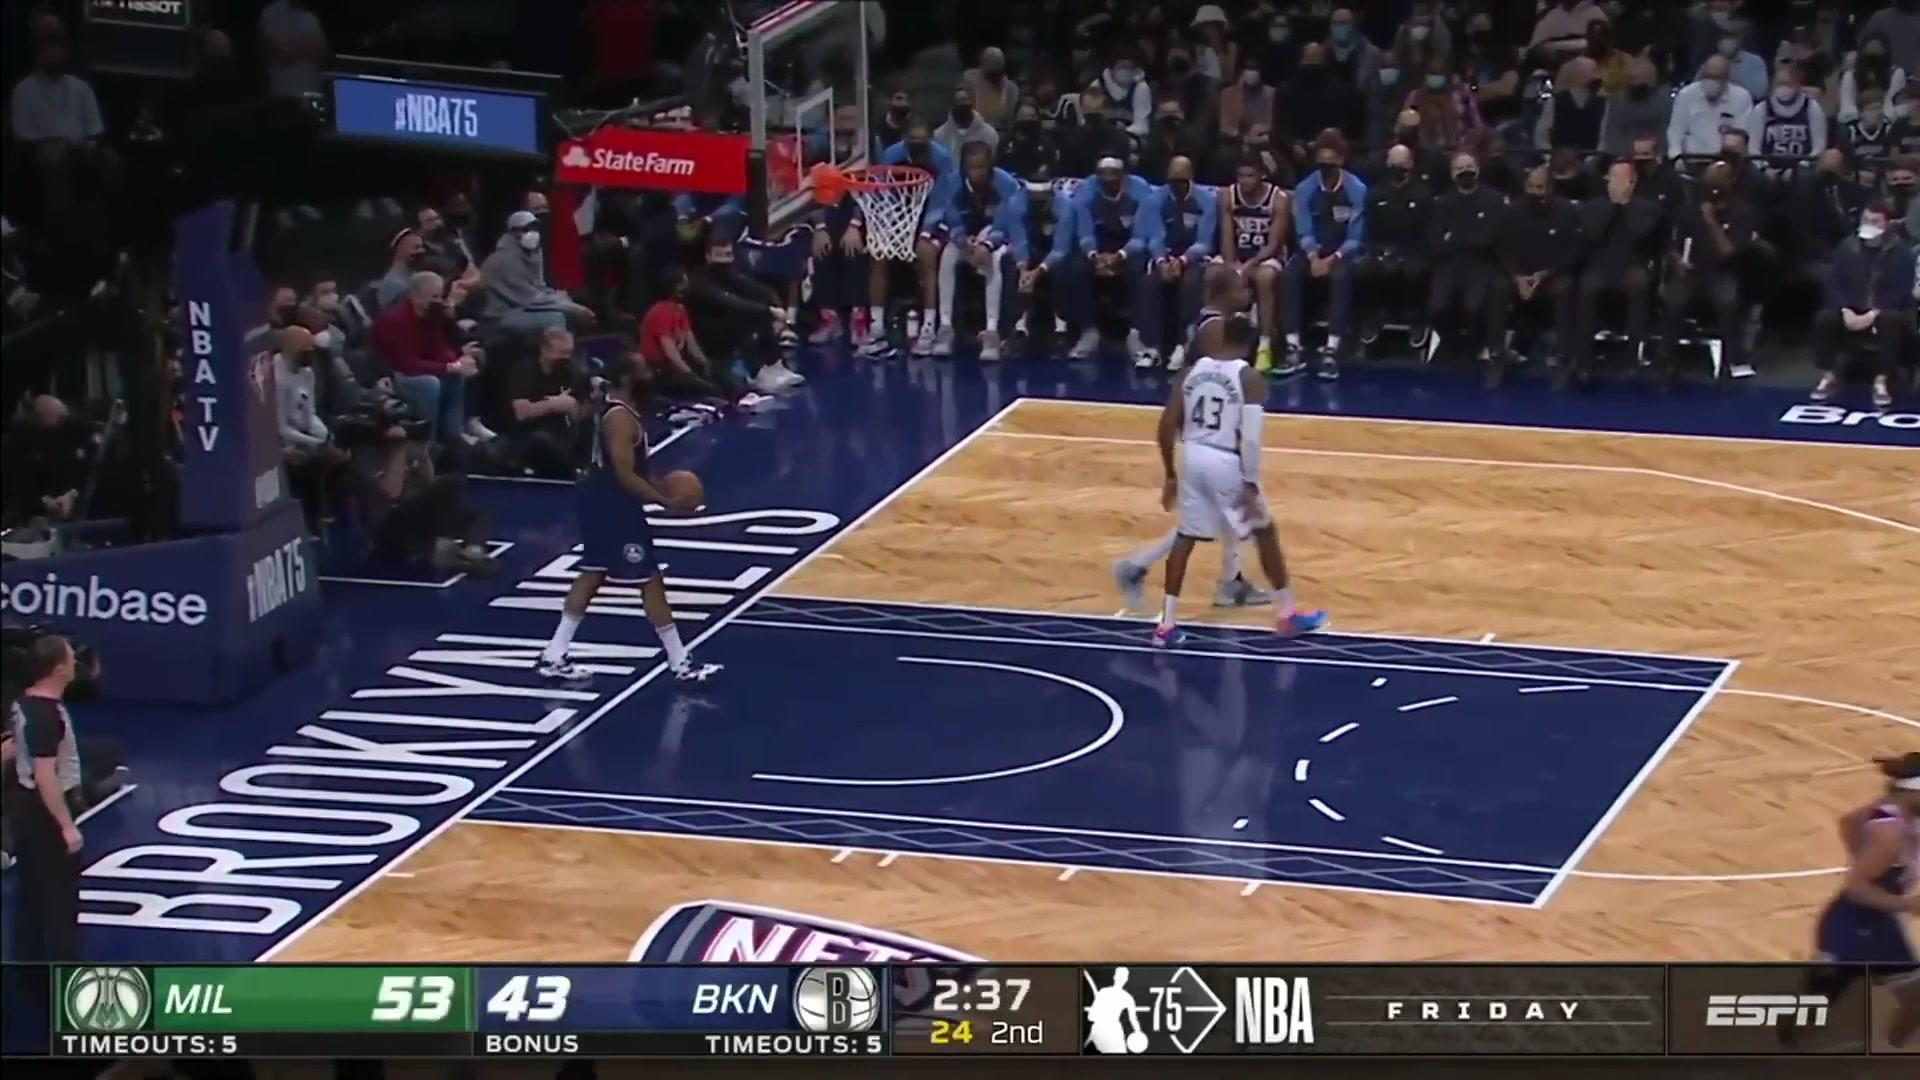no_foul: (1122, 266, 1353, 630)
